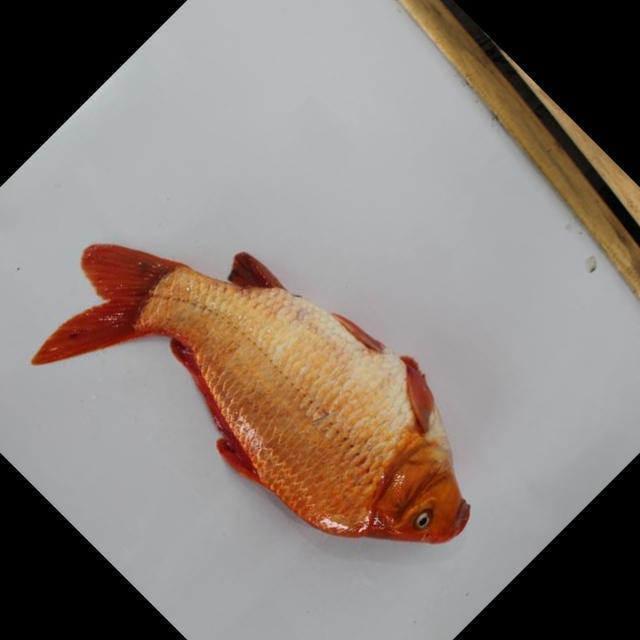Gold-Fish: (65, 203, 518, 595)
